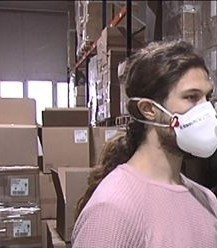with_mask: (129, 45, 217, 172)
